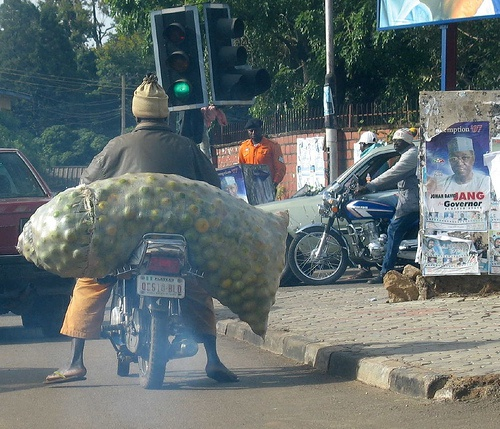non-vehicle: (101, 233, 193, 387), (285, 183, 420, 285)
